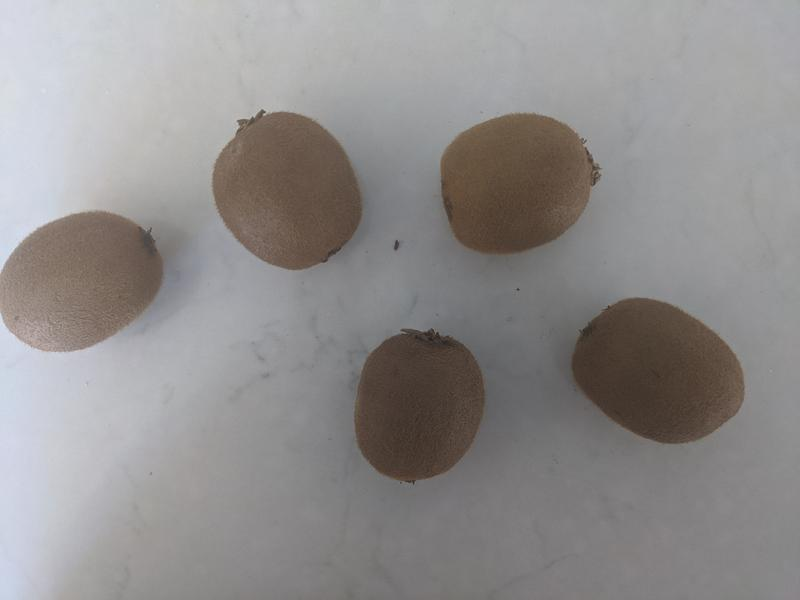kiwi: (570, 296, 746, 445), (211, 110, 364, 271), (2, 211, 164, 353), (439, 113, 599, 253), (353, 332, 485, 481)
